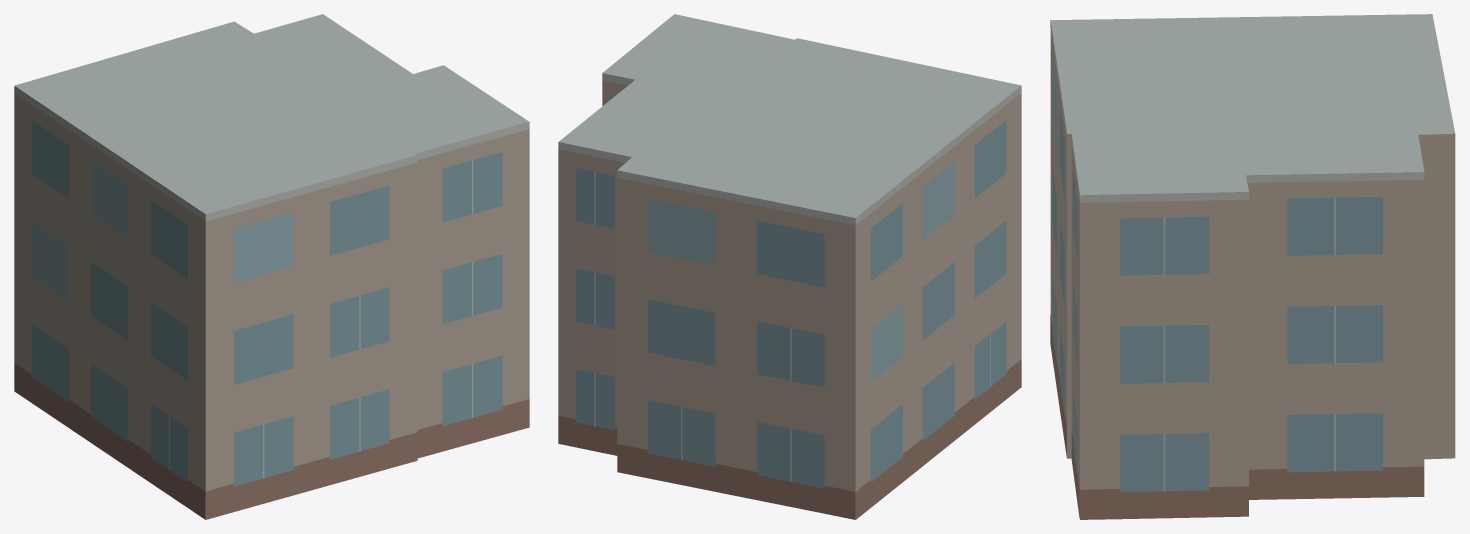
File: survey-upis-32666822.glb
3 views of the same model, side by side, from view 1: azimuth 30°, elevation 25°; view 2: azimuth 150°, elevation 25°; view 3: azimuth 270°, elevation 25° (orthographic). The views are drawn at different scales.
Visible parts, largest first — view 1: survey-upis-32666822.tmp; view 2: survey-upis-32666822.tmp; view 3: survey-upis-32666822.tmp.
Boxes of the visible parts, x1=… form: survey-upis-32666822.tmp: x1=14, y1=14, x2=529, y2=519; survey-upis-32666822.tmp: x1=558, y1=14, x2=1021, y2=519; survey-upis-32666822.tmp: x1=1050, y1=14, x2=1455, y2=519.
Size of the model in its own units: 12.22 by 10.2 by 11.53.
